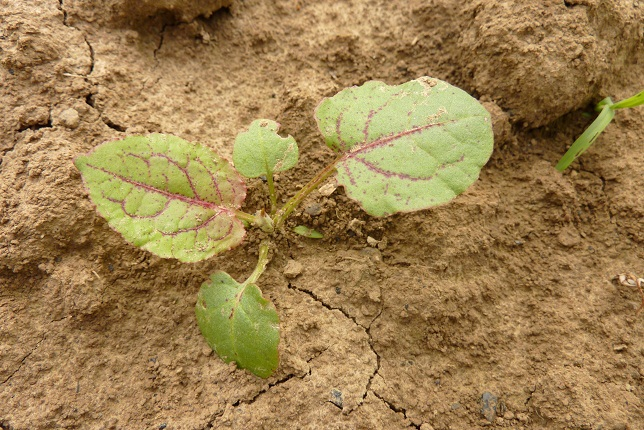haagwinde: (38, 71, 541, 394)
